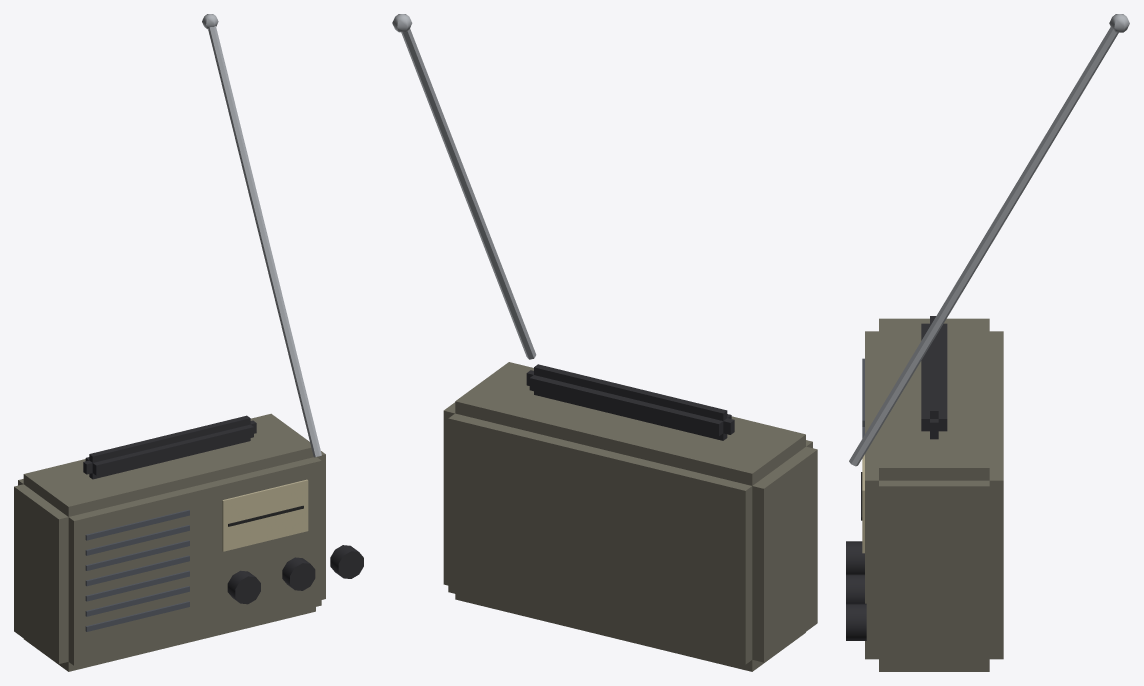
File: item_radio_ground.glb
3 views of the same model, side by side, from view 1: azimuth 30°, elevation 25°; view 2: azimuth 150°, elevation 25°; view 3: azimuth 270°, elevation 25° (orthographic). The views are drawn at different scales.
Visible parts, largest first — view 1: radio_ground; view 2: radio_ground; view 3: radio_ground.
Part boxes in pixels (box(x1,y1,x2,y2)): radio_ground: box(14, 14, 363, 671); radio_ground: box(392, 14, 817, 671); radio_ground: box(846, 14, 1129, 671).
Size of what is drawn, in the model's own units: 0.2405 by 0.416 by 0.164.
